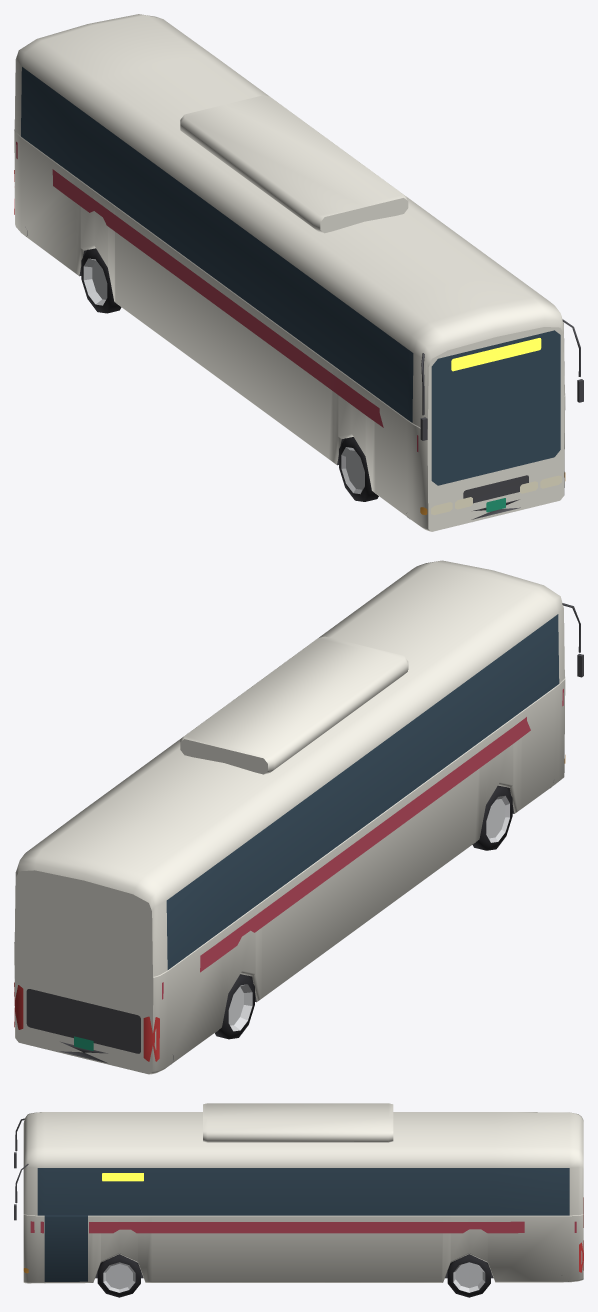
3 renders of one model, top to bottom at view 1: azimuth 30°, elevation 25°; view 2: azimuth 150°, elevation 25°; view 3: azimuth 270°, elevation 25°, orthographic. The views are drawn at different scales.
Visible parts, largest first — view 1: 12_1; view 2: 12_1; view 3: 12_1.
Part boxes in pixels (x1,y1,x2,y2): 12_1: [14, 14, 583, 531]; 12_1: [14, 560, 583, 1074]; 12_1: [14, 1103, 583, 1297].
Size of the model in its own units: 2.71 by 3.71 by 12.22.
